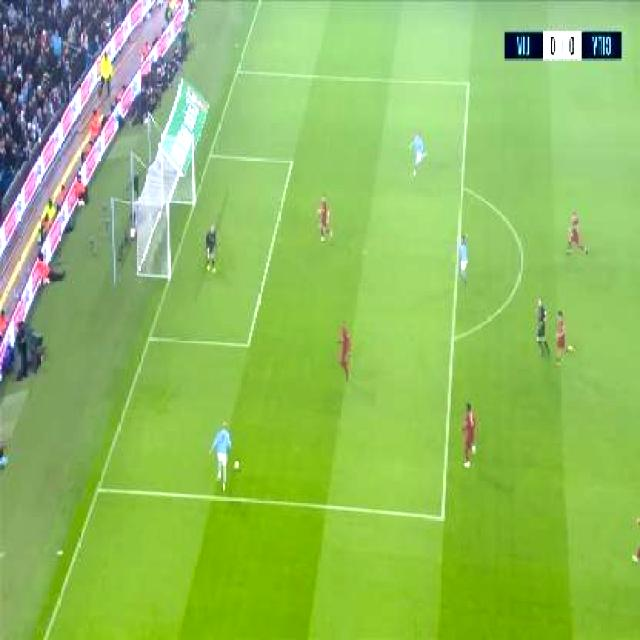bigarea_bottom_inner: (437, 506, 449, 525)
bigarea_bottom_outter: (94, 481, 105, 497)
bigarea_top_inner: (463, 76, 474, 92)
bigarea_top_outter: (235, 64, 243, 76)
bottom_arc_area_intersection: (449, 329, 458, 346)
corner: (256, 2, 266, 8)
smallarea_bottom_inner: (242, 332, 256, 354)
smallarea_bottom_outter: (144, 328, 158, 346)
smallarea_top_inner: (288, 152, 297, 168)
smallarea_top_outter: (206, 146, 219, 163)
top_arc_area_intersection: (457, 178, 469, 196)
